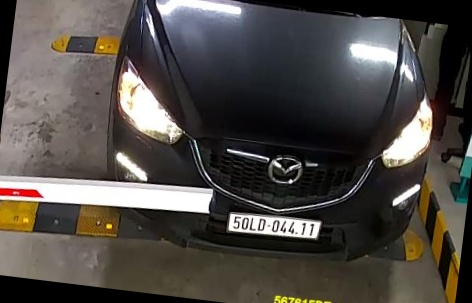plate: (225, 206, 330, 248)
